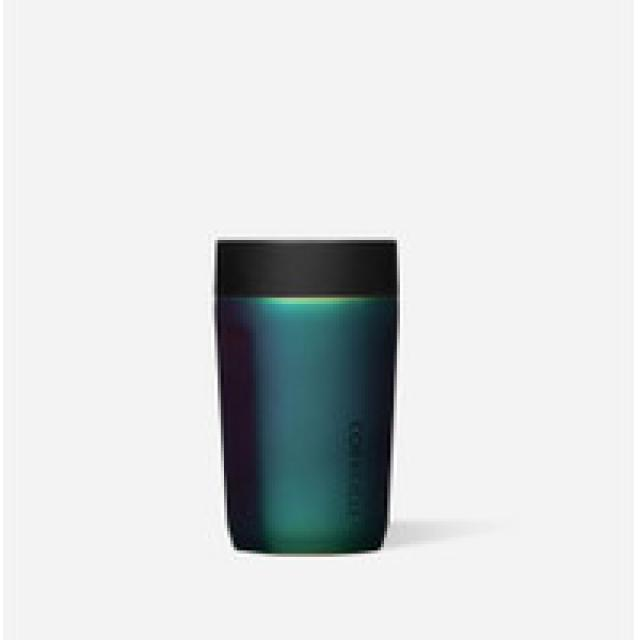bottle: (215, 238, 400, 556)
